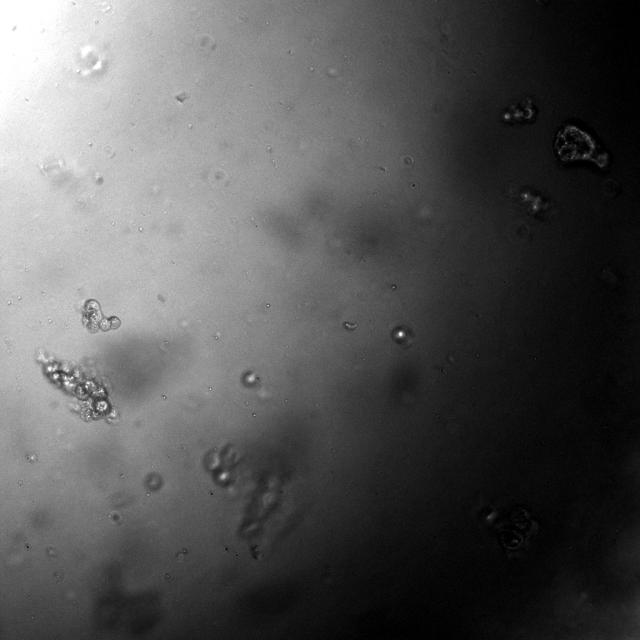organoid: (36, 350, 118, 422), (552, 122, 608, 170), (238, 477, 279, 537), (203, 444, 241, 488), (505, 186, 553, 220), (81, 299, 120, 332), (501, 96, 538, 125), (391, 325, 412, 348), (144, 472, 163, 492), (241, 369, 260, 387)
